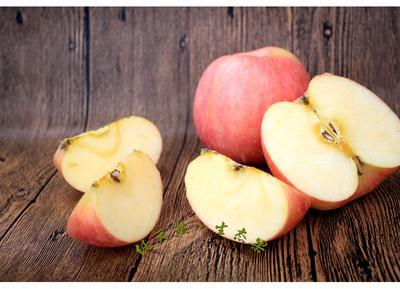apple: (192, 44, 314, 164)
